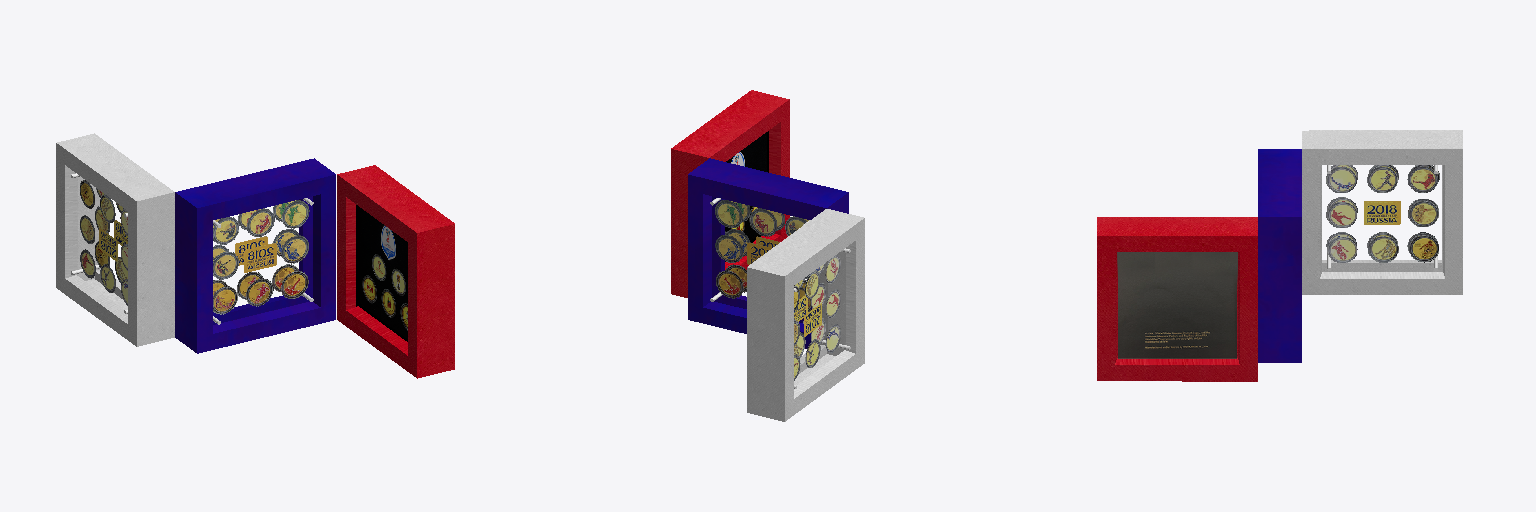
3 views of the same model, side by side, from view 1: azimuth 30°, elevation 25°; view 2: azimuth 150°, elevation 25°; view 3: azimuth 270°, elevation 25° (orthographic).
Size of the model in its own units: 311 by 200 by 456.
1 materials, 1 textured.